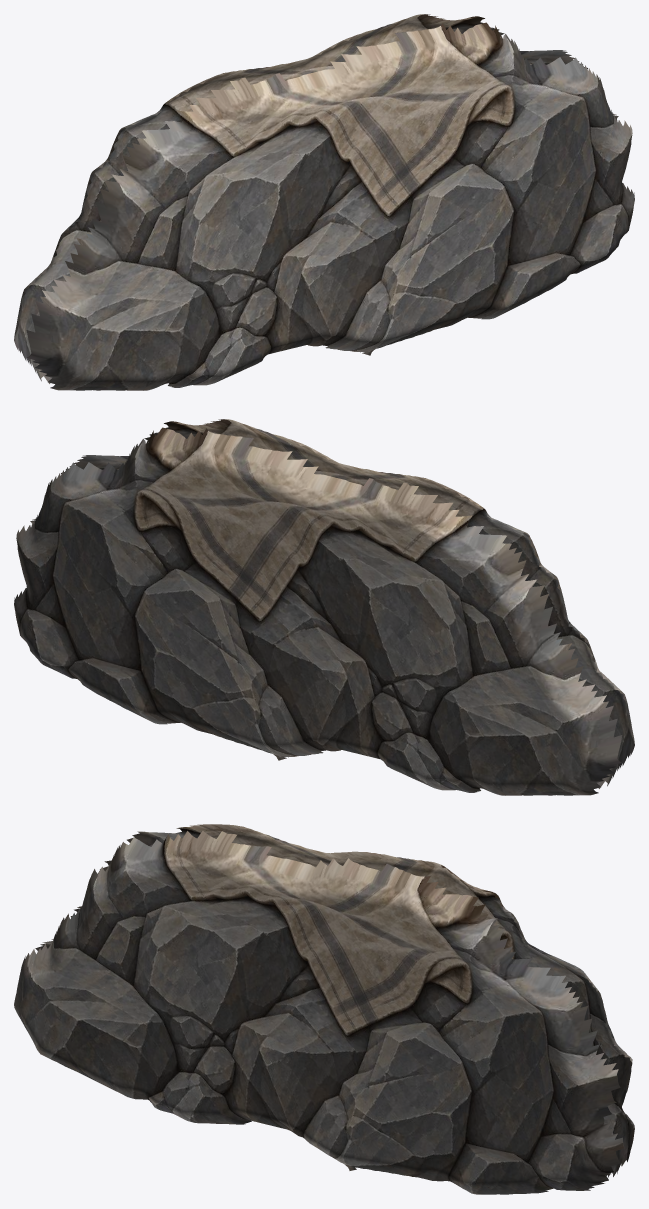
Rendered from v4-mine-chamber-scatter-ore-heap.glb.
3 views of the same model, one above another, from view 1: azimuth 30°, elevation 25°; view 2: azimuth 150°, elevation 25°; view 3: azimuth 330°, elevation 25° (orthographic).
Visible parts, largest first — view 1: v4-mine-chamber-scatter-ore-heap; view 2: v4-mine-chamber-scatter-ore-heap; view 3: v4-mine-chamber-scatter-ore-heap.
Boxes of the visible parts, left/top/right/bottom form: v4-mine-chamber-scatter-ore-heap: left=14, top=14, right=634, bottom=390; v4-mine-chamber-scatter-ore-heap: left=14, top=419, right=634, bottom=795; v4-mine-chamber-scatter-ore-heap: left=14, top=824, right=634, bottom=1194.
Bounding box in the file's own units: 1.99 × 0.975 × 0.24.
1 material, 1 textured.
